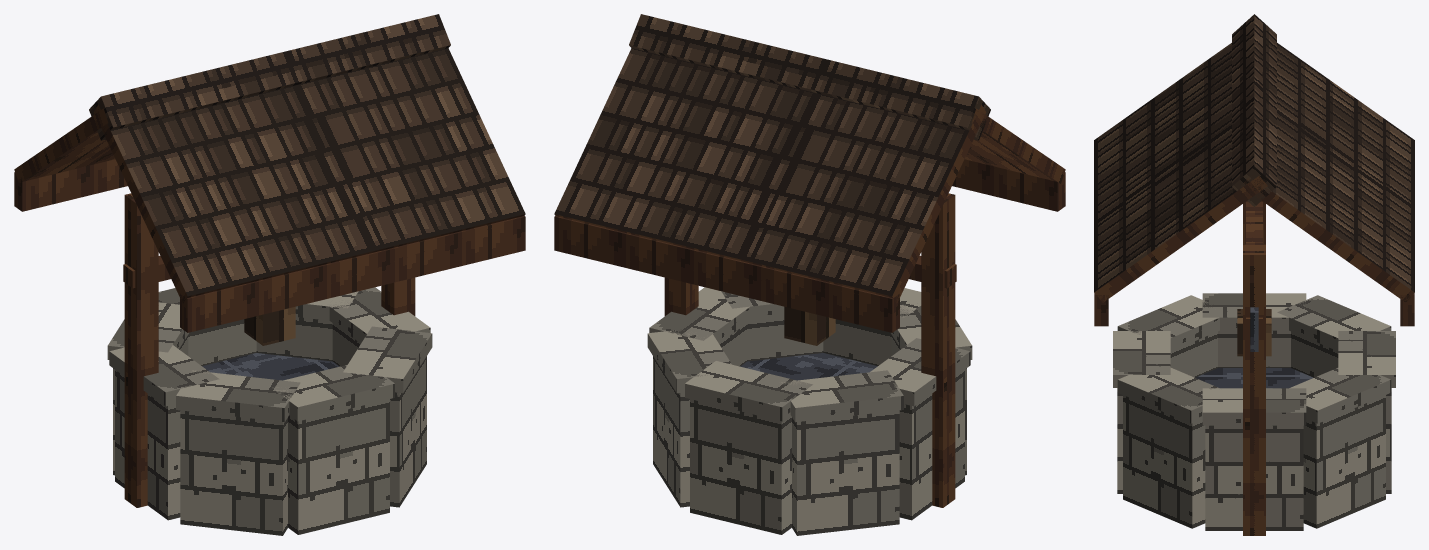
Rendered from MV_Well.glb.
3 views of the same model, side by side, from view 1: azimuth 30°, elevation 25°; view 2: azimuth 150°, elevation 25°; view 3: azimuth 270°, elevation 25° (orthographic). The views are drawn at different scales.
Visible parts, largest first — view 1: MV_Well_A.MV_Well; view 2: MV_Well_A.MV_Well; view 3: MV_Well_A.MV_Well.
Part boxes in pixels (x1=…): MV_Well_A.MV_Well: x1=14, y1=14, x2=525, y2=535; MV_Well_A.MV_Well: x1=554, y1=14, x2=1065, y2=535; MV_Well_A.MV_Well: x1=1094, y1=14, x2=1414, y2=535.
Bounding box in the file's own units: 2.5 × 2.93 × 2.22.
6 materials, 6 textured.
